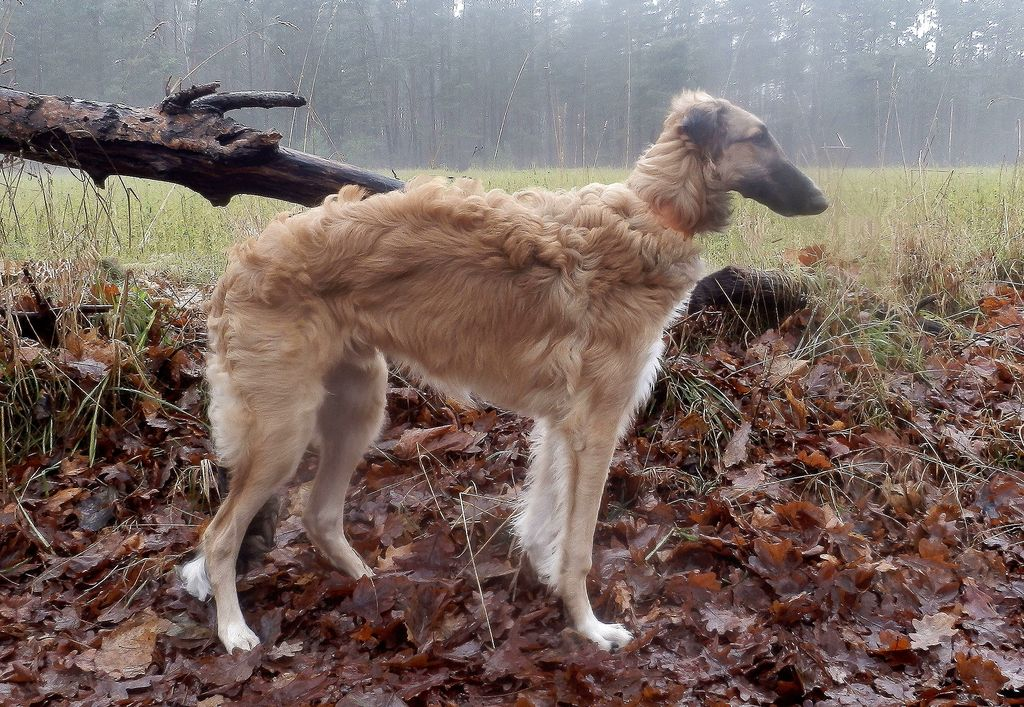borzoi: (130, 80, 855, 650)
